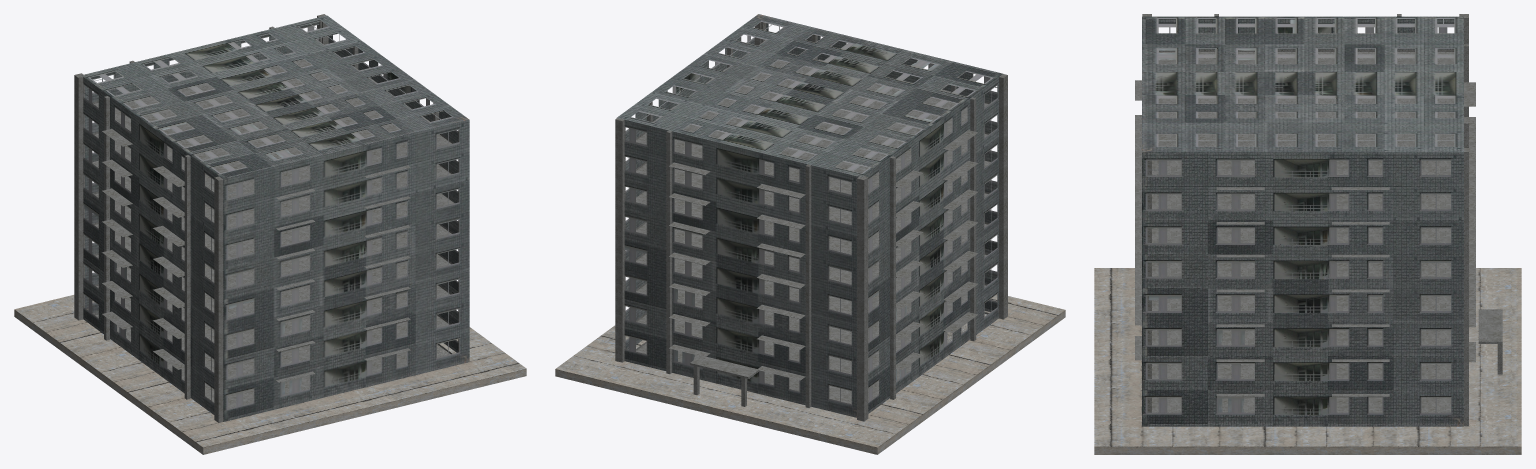
File: BagSS07base_100.fbx
The picture shows the model from 3 angles, left to right: view 1: azimuth 30°, elevation 25°; view 2: azimuth 150°, elevation 25°; view 3: azimuth 270°, elevation 25°; orthographic projection. The views are drawn at different scales.
Parts seen in each view (by area): view 1: Box01, baseceilings300, baseBase300; view 2: Box01, baseceilings300, baseBase300; view 3: Box01, baseceilings300, baseBase300.
Boxes of the visible parts, box(x1,y1,x2,y2) form: Box01: box(81, 15, 469, 421); baseceilings300: box(74, 14, 459, 422); baseBase300: box(14, 295, 526, 454); Box01: box(617, 14, 1002, 417); baseceilings300: box(615, 22, 1007, 421); baseBase300: box(555, 294, 1065, 454); Box01: box(1142, 16, 1463, 426); baseceilings300: box(1135, 14, 1502, 426); baseBase300: box(1094, 268, 1521, 454).
Bounding box in the file's own units: 42.24 × 31.16 × 42.72.
